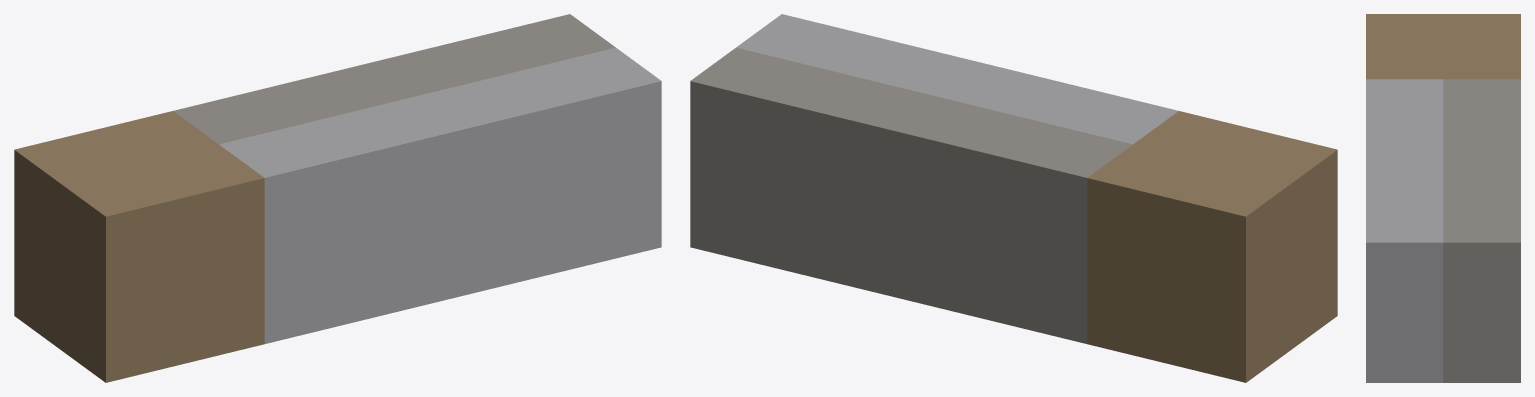
Rendered from cuchillo_cocina_acero_01.glb.
3 renders of one model, left to right at view 1: azimuth 30°, elevation 25°; view 2: azimuth 150°, elevation 25°; view 3: azimuth 270°, elevation 25°, orthographic. The views are drawn at different scales.
Visible parts, largest first — view 1: cuchillo_cocina_acero; view 2: cuchillo_cocina_acero; view 3: cuchillo_cocina_acero.
Part boxes in pixels (left/top/right/bottom): cuchillo_cocina_acero: left=14, top=14, right=661, bottom=382; cuchillo_cocina_acero: left=690, top=14, right=1337, bottom=382; cuchillo_cocina_acero: left=1366, top=14, right=1520, bottom=382.
Bounding box in the file's own units: 0.7 × 0.2 × 0.2.
